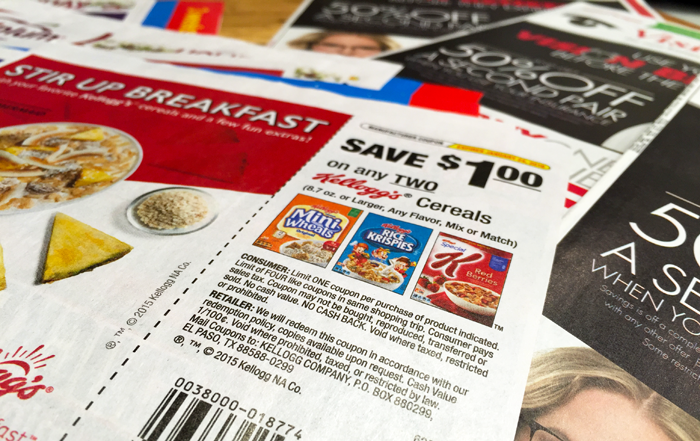Rec_Paper: (4, 6, 686, 429)
